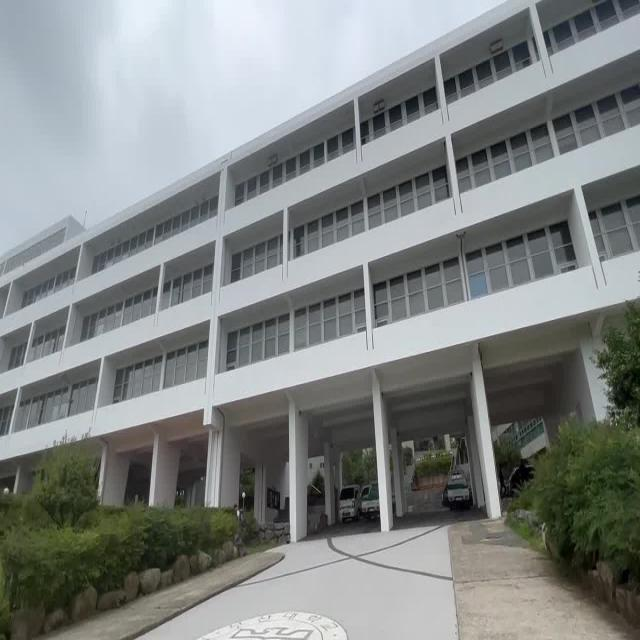building: (35, 61, 596, 359)
